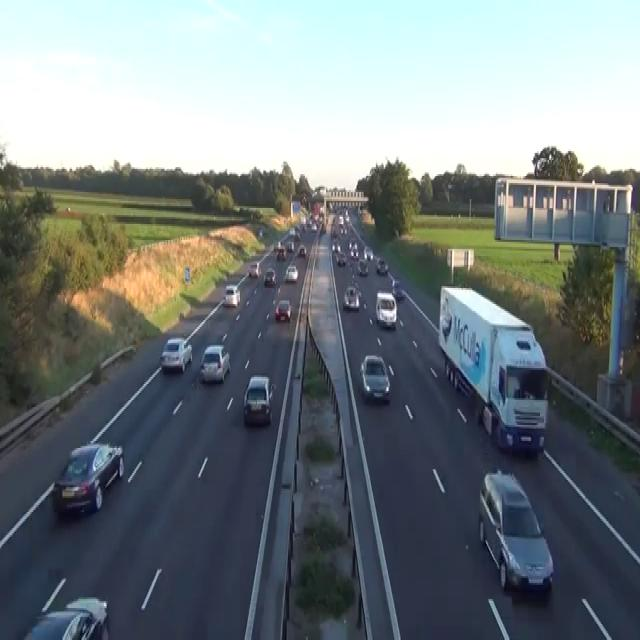Car: (478, 469, 554, 592), (52, 441, 124, 515), (14, 596, 109, 638), (63, 596, 109, 638), (243, 375, 275, 425), (359, 354, 390, 402), (199, 343, 230, 382), (159, 338, 192, 373), (375, 290, 397, 329), (342, 285, 360, 311), (274, 298, 292, 322), (223, 284, 240, 308), (391, 278, 404, 300), (263, 267, 276, 286), (441, 311, 451, 334), (284, 265, 298, 281), (248, 262, 261, 278), (376, 258, 388, 274), (357, 260, 368, 276), (363, 243, 373, 260), (288, 226, 300, 240), (336, 252, 346, 266), (350, 243, 358, 260), (276, 247, 286, 260), (297, 244, 306, 256), (331, 242, 341, 252), (273, 240, 282, 251), (286, 240, 294, 251), (338, 213, 344, 226), (301, 217, 306, 231), (310, 222, 317, 231), (344, 210, 349, 222), (331, 230, 338, 238), (340, 226, 347, 234), (321, 224, 326, 233), (258, 228, 262, 236)
Truck: (438, 285, 549, 455)
